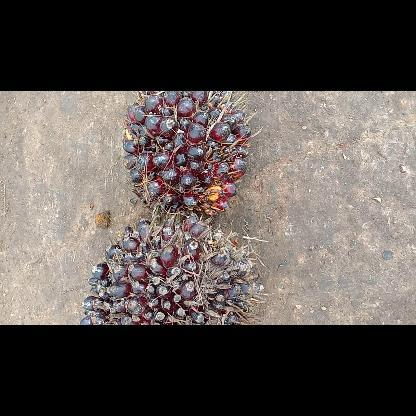TBS mentah: (76, 218, 264, 324), (120, 91, 252, 229)
